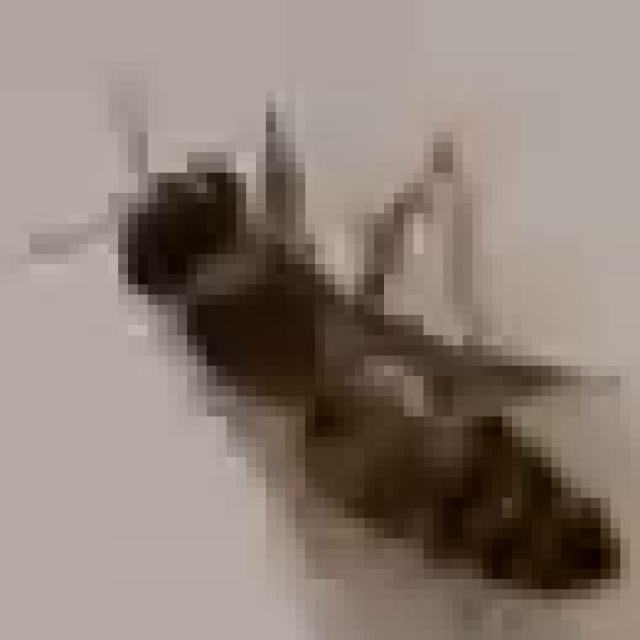honeybee: (95, 139, 598, 619)
